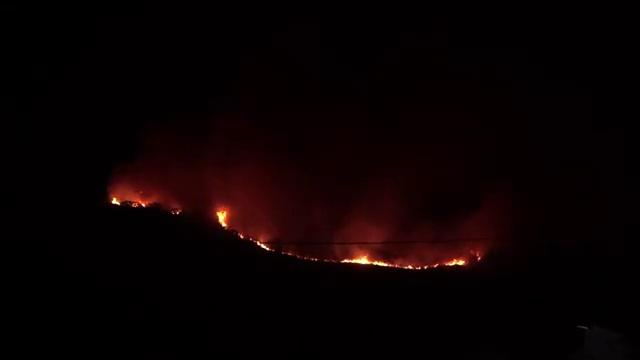fire: (343, 254, 389, 265), (108, 195, 126, 208), (217, 208, 226, 221)
